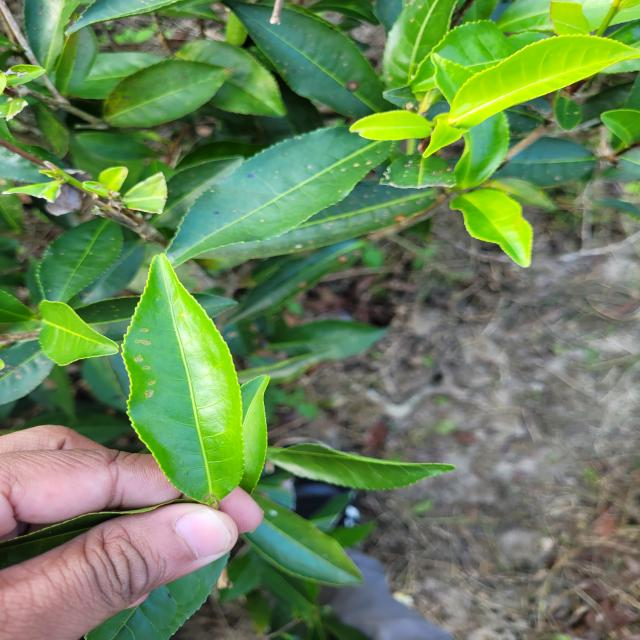Category B(2-4 days): (107, 240, 280, 517)
